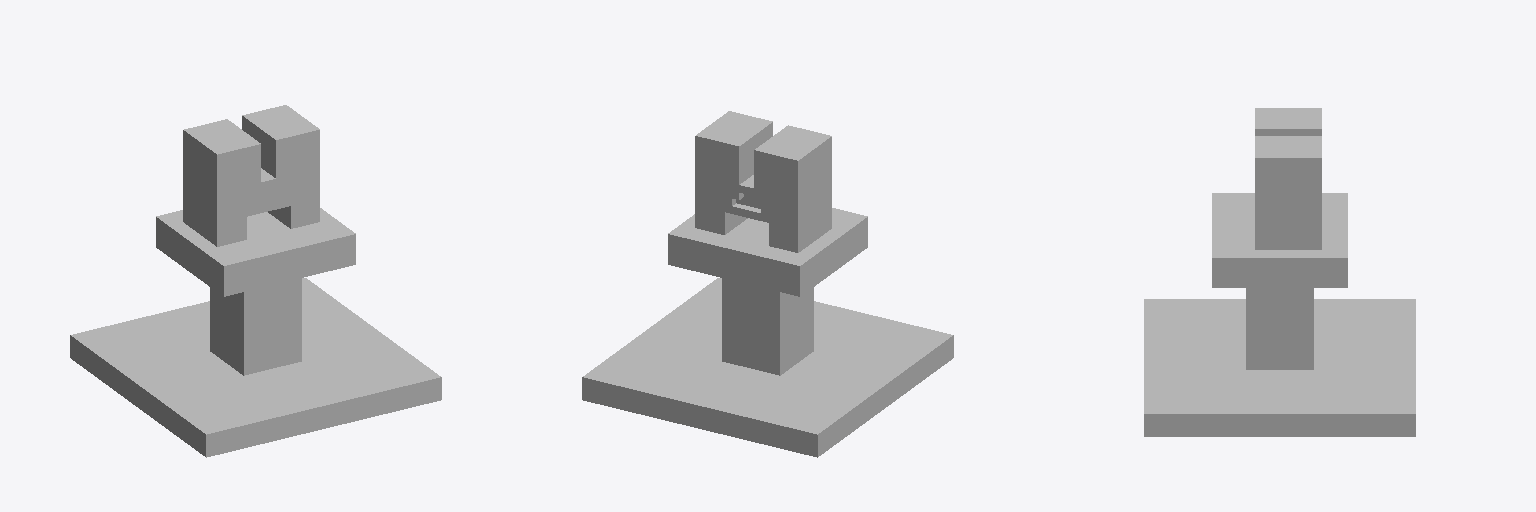
The model's file is trophy.obj.
3 renders of one model, left to right at view 1: azimuth 30°, elevation 25°; view 2: azimuth 150°, elevation 25°; view 3: azimuth 270°, elevation 25°, orthographic.
Visible parts, largest first — view 1: object 1; view 2: object 1; view 3: object 1.
Part boxes in pixels (left/top/right/bottom): object 1: left=70, top=105, right=441, bottom=457; object 1: left=582, top=111, right=953, bottom=457; object 1: left=1144, top=108, right=1415, bottom=436.
Bounding box in the file's own units: 3.2 × 3.2 × 3.2.